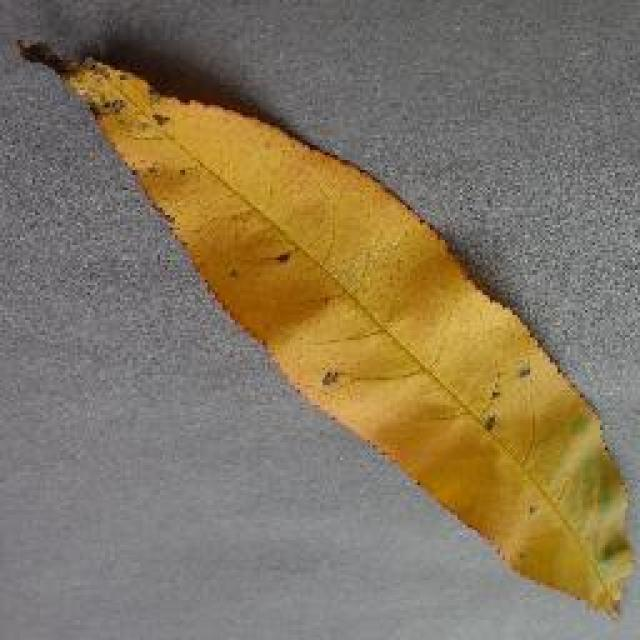Peach_Bacterial_Spot: (114, 40, 354, 313)
